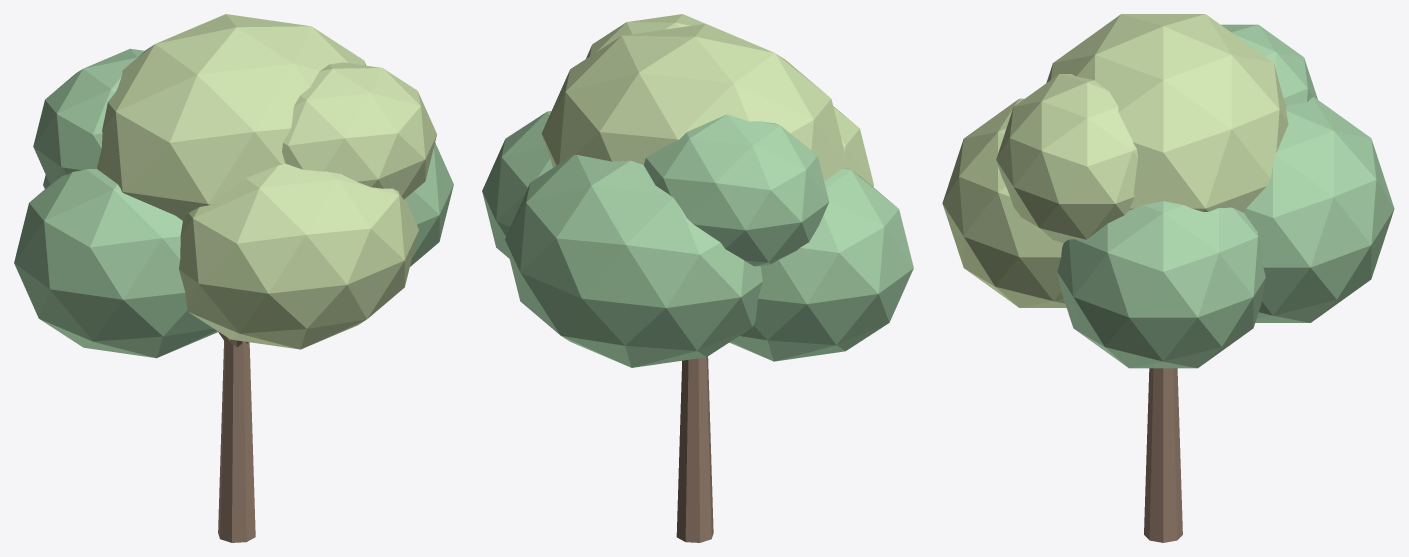
The model's file is tree.glb.
3 views of the same model, side by side, from view 1: azimuth 30°, elevation 25°; view 2: azimuth 150°, elevation 25°; view 3: azimuth 270°, elevation 25° (orthographic). The views are drawn at different scales.
Parts seen in each view (by area): view 1: Sora_Tree_Surface; view 2: Sora_Tree_Surface; view 3: Sora_Tree_Surface.
Part boxes in pixels (left/top/right/bottom): Sora_Tree_Surface: left=14, top=14, right=453, bottom=542; Sora_Tree_Surface: left=482, top=14, right=913, bottom=542; Sora_Tree_Surface: left=942, top=14, right=1394, bottom=542.
Bounding box in the file's own units: 7.68 × 9.21 × 7.42.
